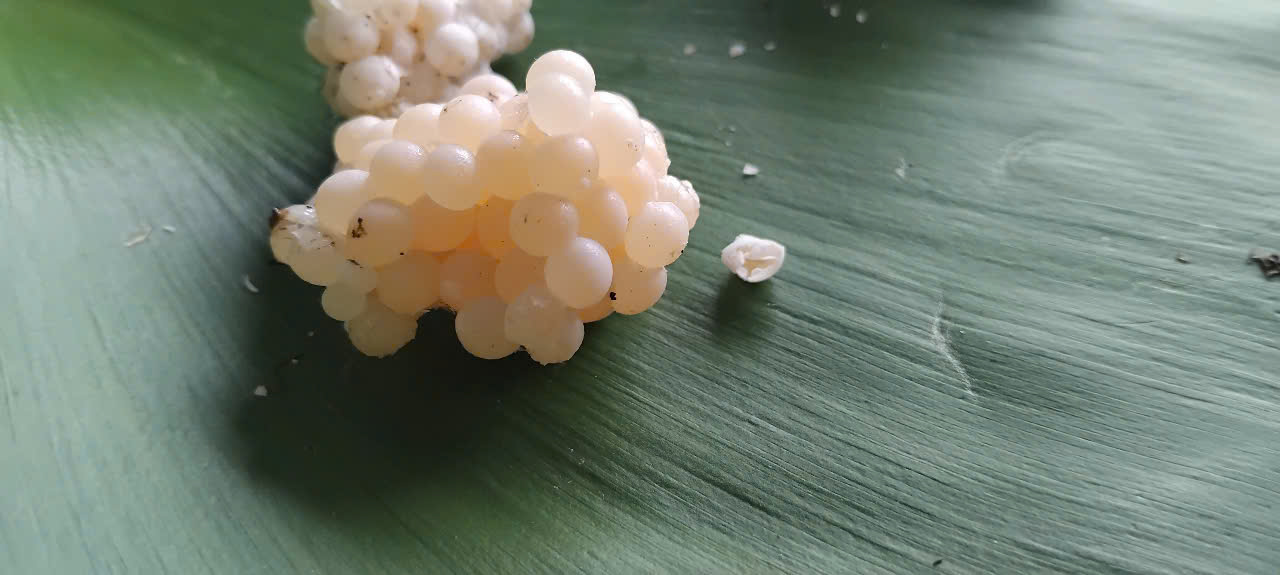trung_oc_buou_den: (255, 0, 831, 395)
